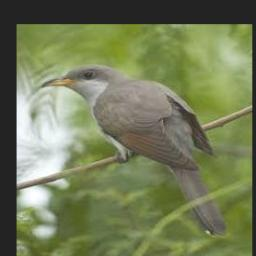Cuckoo: (41, 64, 227, 235)
